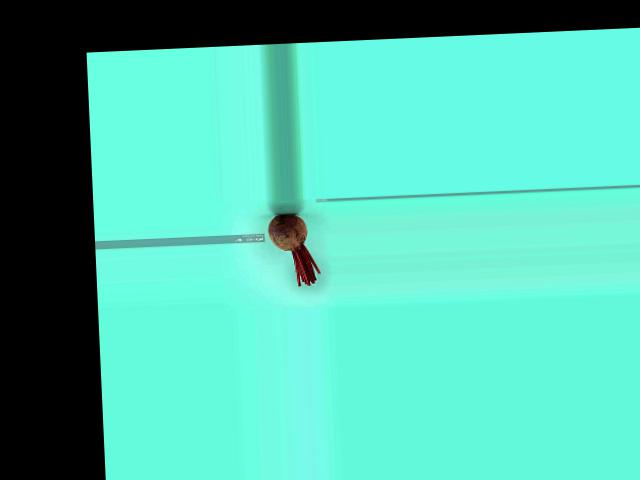beet: (267, 212, 320, 286)
